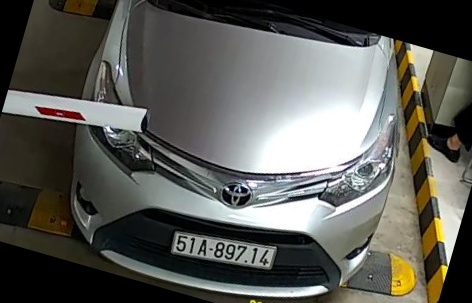plate: (165, 216, 288, 278)
